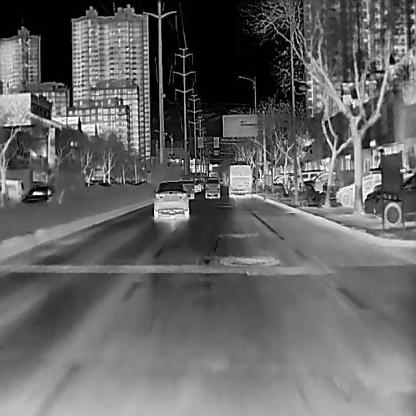bus: (228, 162, 252, 195)
car: (362, 171, 415, 225), (333, 170, 380, 207), (152, 180, 190, 218), (286, 168, 328, 194), (299, 172, 335, 192), (20, 186, 54, 202), (4, 177, 24, 201), (204, 176, 220, 197), (273, 172, 291, 184), (189, 180, 202, 192), (198, 180, 204, 188)
truck: (178, 175, 194, 198)
